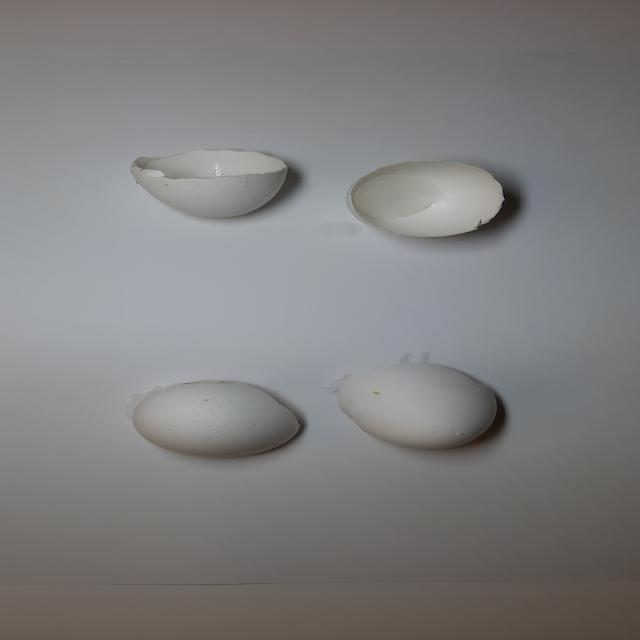egg shell: (320, 356, 518, 458), (113, 372, 314, 467), (322, 155, 528, 245), (115, 139, 304, 227)
